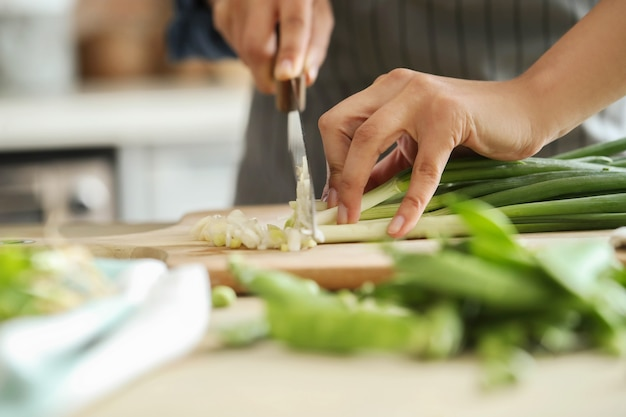knife: (273, 81, 319, 243)
